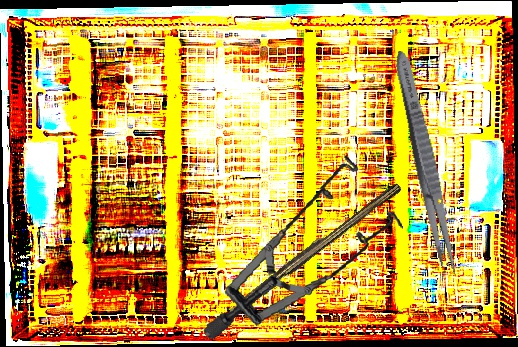Dressing Forceps: (388, 48, 464, 279)
Scalpel Handle: (224, 177, 403, 321)
Speculum: (181, 148, 415, 340)
